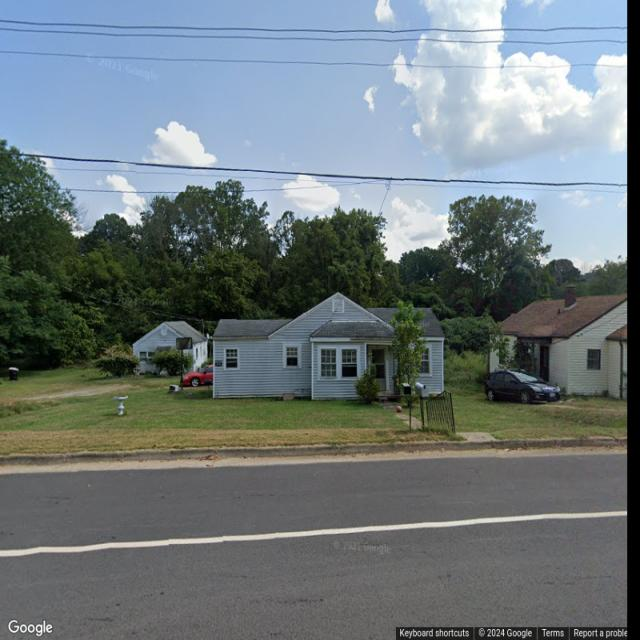House: (209, 292, 445, 400), (489, 285, 628, 403), (132, 321, 208, 380)
